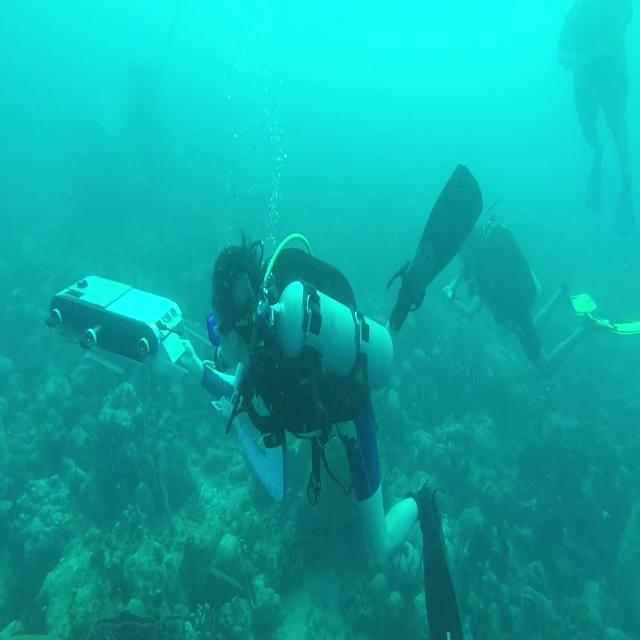human: (202, 228, 464, 637), (386, 162, 638, 380)
